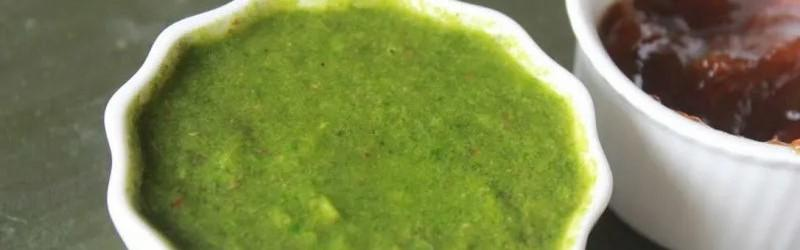GreenChutney: (138, 7, 590, 250)
